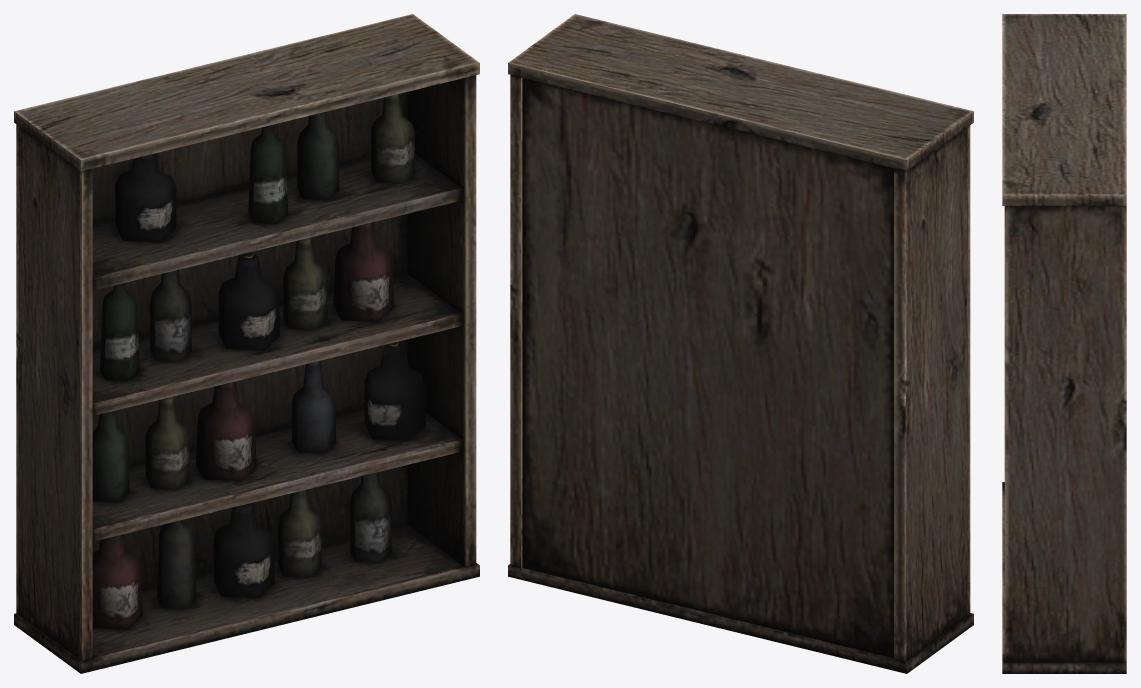
Rendered from chemestry_shelf_large.dae.
3 renders of one model, left to right at view 1: azimuth 30°, elevation 25°; view 2: azimuth 150°, elevation 25°; view 3: azimuth 270°, elevation 25°, orthographic. The views are drawn at different scales.
Visible parts, largest first — view 1: polySurface10; view 2: polySurface10; view 3: polySurface10.
Boxes of the visible parts, left/top/right/bottom form: polySurface10: left=14, top=14, right=479, bottom=673; polySurface10: left=508, top=14, right=973, bottom=673; polySurface10: left=1002, top=14, right=1126, bottom=673.
Bounding box in the file's own units: 1.3 × 1.6 × 0.3775.
